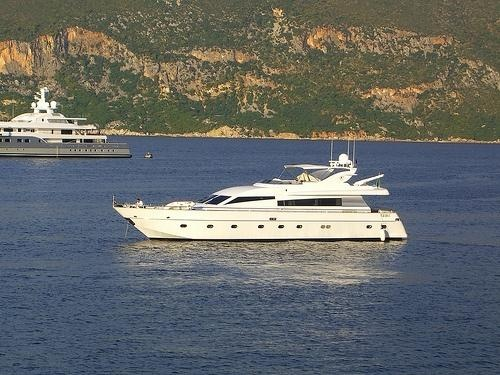boat: (110, 150, 415, 250), (1, 83, 136, 166)
